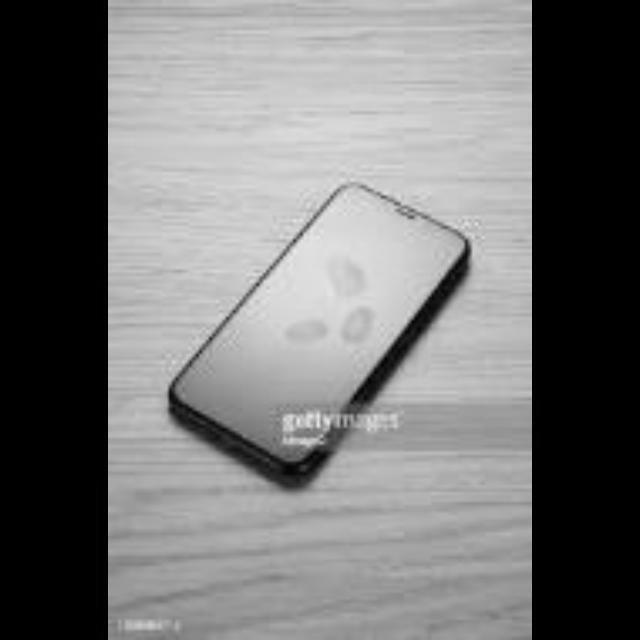fake: (160, 181, 472, 495)
